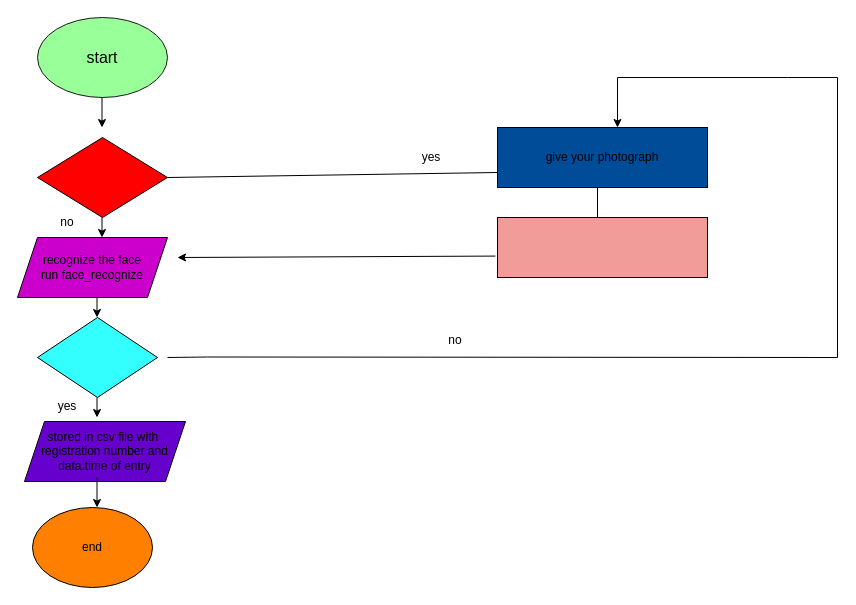
Image size: 856x605. Some labels were removed from this diagram. The shapes that lost their labels are listed below. From the top down, each one's box as (x1, y1, x2, y2) in pixels, then its label:
(36, 136, 168, 218): new user? run create_dataset
(496, 216, 708, 278): stores the face data in folder on your name
(36, 316, 158, 398): face recognized
